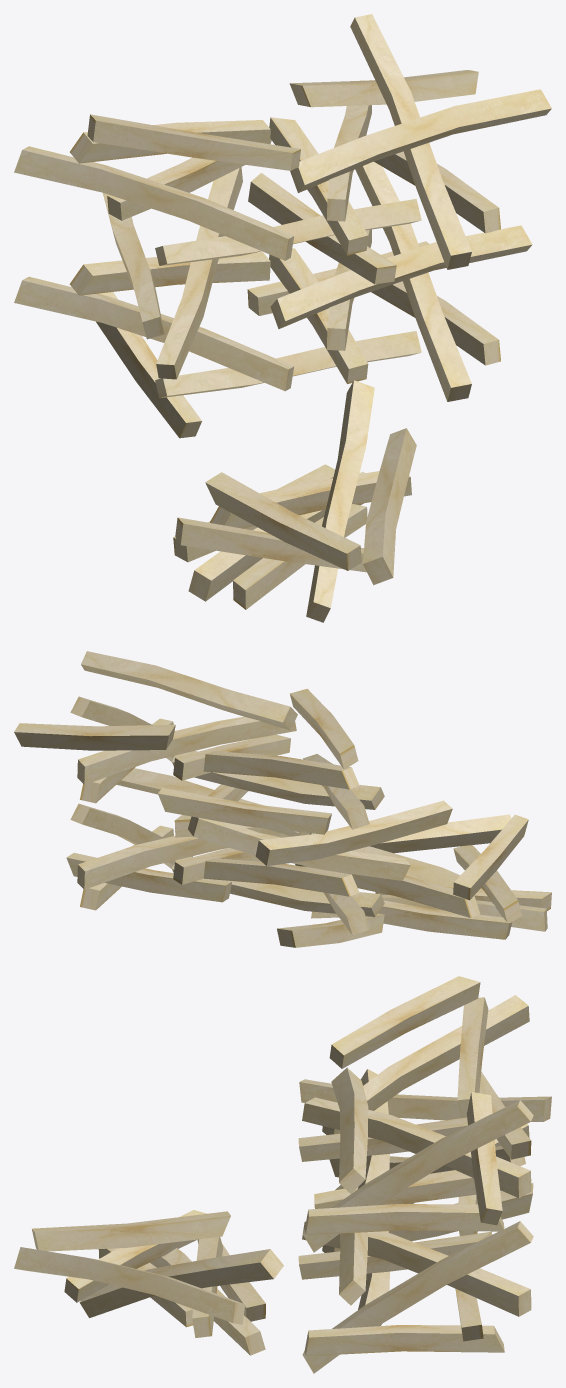
The model's file is Fries.fbx.
The picture shows the model from 3 angles, top to bottom: view 1: azimuth 30°, elevation 25°; view 2: azimuth 150°, elevation 25°; view 3: azimuth 270°, elevation 25°; orthographic projection. The views are drawn at different scales.
Visible parts, largest first — view 1: Fries2, Fries1, Fries0, FriesGrab.004; view 2: Fries2, Fries1, Fries0, FriesGrab.004; view 3: Fries2, FriesGrab.004, Fries0, Fries1.
Part boxes in pixels (box(x1,y1,x2,y2)): Fries2: box(14, 70, 551, 260); Fries1: box(69, 14, 532, 379); Fries0: box(14, 161, 500, 438); FriesGrab.004: box(173, 380, 416, 622); Fries2: box(14, 651, 369, 834); Fries1: box(70, 696, 452, 896); Fries0: box(66, 803, 384, 947); FriesGrab.004: box(295, 814, 551, 939); Fries2: box(298, 976, 531, 1225); FriesGrab.004: box(14, 1210, 283, 1355); Fries0: box(298, 1124, 533, 1373); Fries1: box(299, 1069, 551, 1305).
Size of the model in its own units: 42.58 by 31.99 by 46.15.
Materials: 1 (1 with a texture image).
